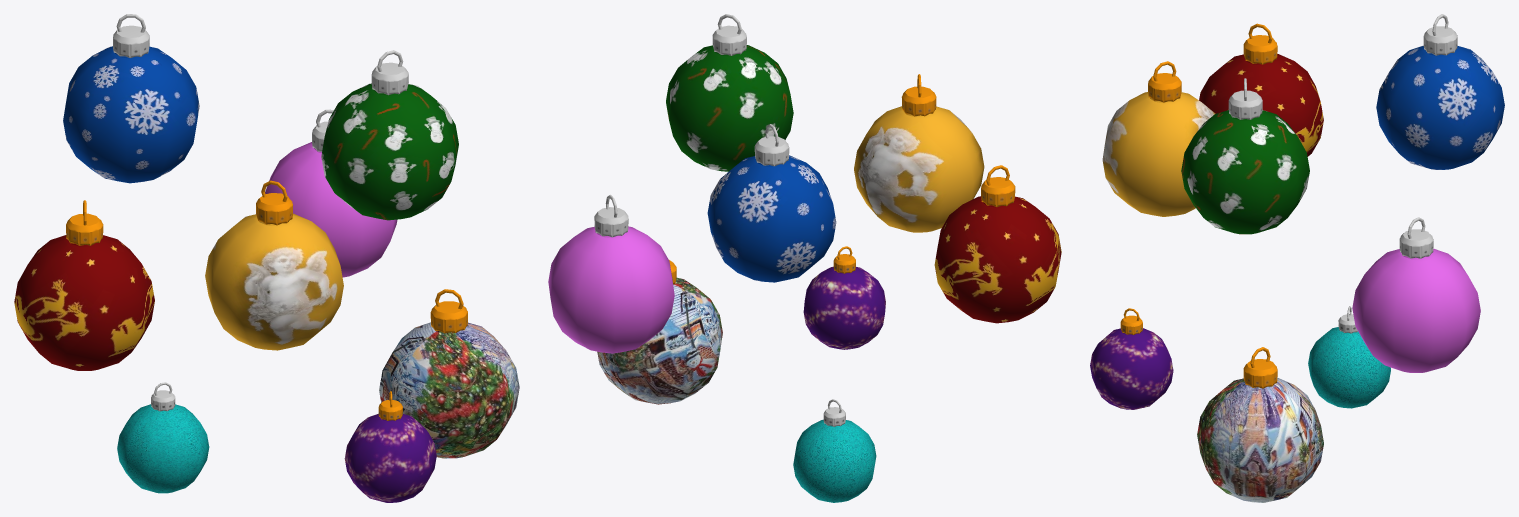
Rendered from christmas-baubles.v1.glb.
The picture shows the model from 3 angles, left to right: view 1: azimuth 30°, elevation 25°; view 2: azimuth 150°, elevation 25°; view 3: azimuth 270°, elevation 25°; orthographic projection. The views are drawn at different scales.
Parts seen in each view (by area): view 1: pTorus9_kugel_rot_0, pTorus2_kugel_gelb_0, object 4, pTorus6_kugel_blau_0, pTorus5_kugel_weiss_0, pTorus4_kugel_pink_0, object 12, pTorus8_kugel_lila_0, pTorus5_metall_weiss_0, pTorus6_metall_blau_0, object 3, pTorus2_metall_gelb_0 (+1 smaller); view 2: pTorus6_kugel_blau_0, pTorus4_kugel_pink_0, pTorus9_kugel_rot_0, pTorus2_kugel_gelb_0, object 4, pTorus5_kugel_weiss_0, pTorus8_kugel_lila_0, object 12, pTorus9_metall_rot_0, object 3, pTorus6_metall_blau_0, pTorus4_metall_pink_0 (+1 smaller); view 3: object 4, pTorus6_kugel_blau_0, pTorus4_kugel_pink_0, pTorus5_kugel_weiss_0, pTorus2_kugel_gelb_0, pTorus9_kugel_rot_0, pTorus8_kugel_lila_0, object 12, pTorus9_metall_rot_0, pTorus2_metall_gelb_0, pTorus5_metall_weiss_0, pTorus4_metall_pink_0 (+2 smaller).
Part boxes in pixels (<box>): pTorus9_kugel_rot_0: <box>14,235,154,370</box>; pTorus2_kugel_gelb_0: <box>205,213,343,350</box>; object 4: <box>321,83,458,220</box>; pTorus6_kugel_blau_0: <box>63,46,199,183</box>; pTorus5_kugel_weiss_0: <box>379,322,519,458</box>; pTorus4_kugel_pink_0: <box>265,142,397,277</box>; object 12: <box>117,404,209,493</box>; pTorus8_kugel_lila_0: <box>344,413,436,502</box>; pTorus5_metall_weiss_0: <box>430,289,467,333</box>; pTorus6_metall_blau_0: <box>113,14,149,57</box>; object 3: <box>371,50,408,95</box>; pTorus2_metall_gelb_0: <box>256,180,292,225</box>; pTorus6_kugel_blau_0: <box>707,155,836,282</box>; pTorus4_kugel_pink_0: <box>548,226,674,353</box>; pTorus9_kugel_rot_0: <box>934,196,1061,323</box>; pTorus2_kugel_gelb_0: <box>854,106,984,232</box>; object 4: <box>666,45,793,171</box>; pTorus5_kugel_weiss_0: <box>597,277,722,404</box>; pTorus8_kugel_lila_0: <box>803,266,885,349</box>; object 12: <box>793,419,876,502</box>; pTorus9_metall_rot_0: <box>981,165,1015,206</box>; object 3: <box>712,14,746,55</box>; pTorus6_metall_blau_0: <box>754,124,789,166</box>; pTorus4_metall_pink_0: <box>594,194,628,237</box>; object 4: <box>1181,110,1309,234</box>; pTorus6_kugel_blau_0: <box>1376,45,1504,169</box>; pTorus4_kugel_pink_0: <box>1352,248,1480,372</box>; pTorus5_kugel_weiss_0: <box>1197,377,1323,502</box>; pTorus2_kugel_gelb_0: <box>1102,92,1215,216</box>; pTorus9_kugel_rot_0: <box>1199,54,1323,156</box>; pTorus8_kugel_lila_0: <box>1090,328,1173,409</box>; object 12: <box>1308,327,1390,408</box>; pTorus9_metall_rot_0: <box>1243,23,1277,64</box>; pTorus2_metall_gelb_0: <box>1148,61,1181,102</box>; pTorus5_metall_weiss_0: <box>1243,347,1277,388</box>; pTorus4_metall_pink_0: <box>1399,217,1433,258</box>.
Bounding box in the file's own units: 109 × 94.34 × 88.48.
Materials: 16 (15 with a texture image).
